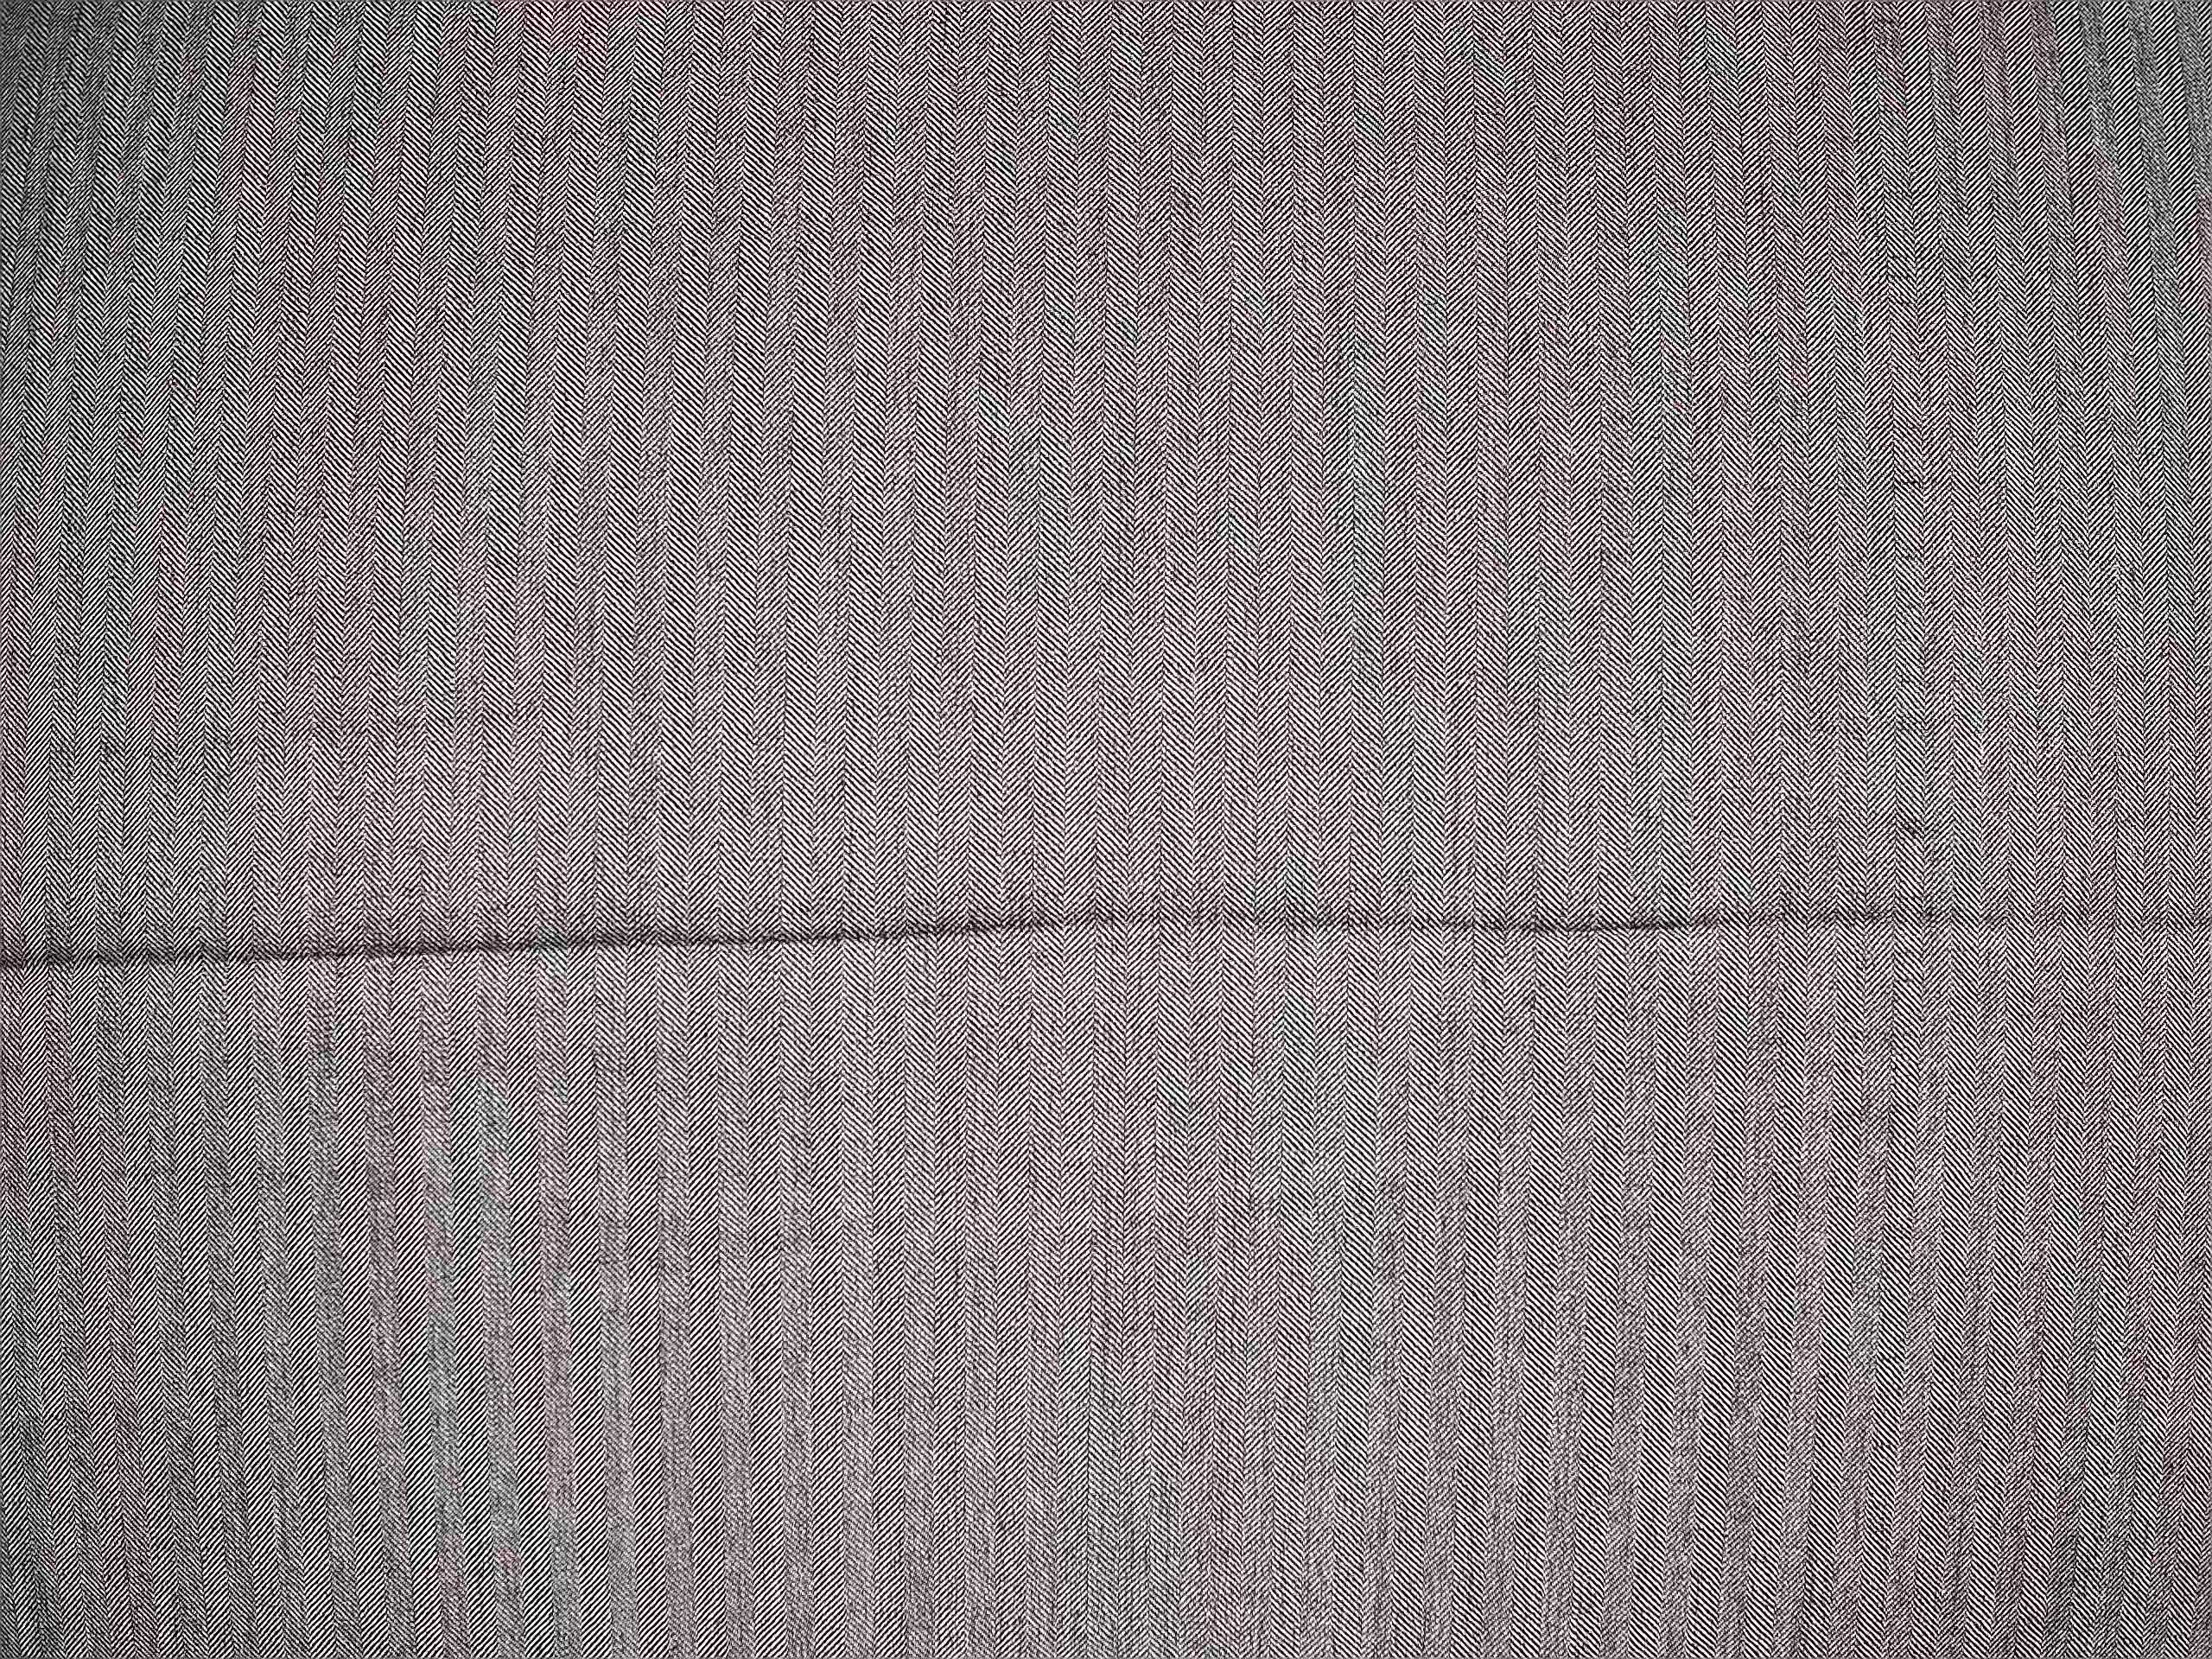jumps: (1881, 805, 1944, 856)
